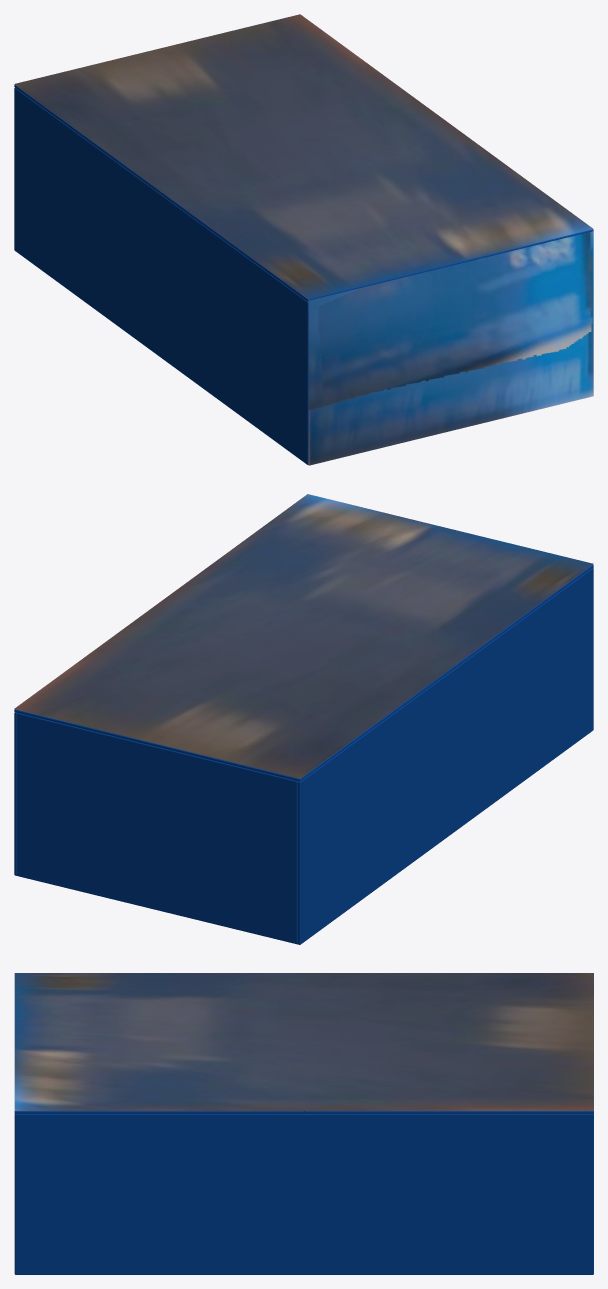
3 renders of one model, top to bottom at view 1: azimuth 30°, elevation 25°; view 2: azimuth 150°, elevation 25°; view 3: azimuth 270°, elevation 25°, orthographic.
Visible parts, largest first — view 1: blue_flat_carton__body, blue_flat_carton__flap_front; view 2: blue_flat_carton__body, blue_flat_carton__flap_front, blue_flat_carton__flap_back; view 3: blue_flat_carton__body, blue_flat_carton__flap_front, blue_flat_carton__flap_right, blue_flat_carton__flap_back.
Boxes of the visible parts, bbox=[...] form: blue_flat_carton__body: bbox=[14, 88, 593, 465]; blue_flat_carton__flap_front: bbox=[14, 14, 593, 301]; blue_flat_carton__body: bbox=[14, 567, 593, 944]; blue_flat_carton__flap_front: bbox=[14, 494, 593, 778]; blue_flat_carton__flap_back: bbox=[14, 672, 446, 781]; blue_flat_carton__body: bbox=[14, 1113, 593, 1274]; blue_flat_carton__flap_front: bbox=[14, 973, 593, 1113]; blue_flat_carton__flap_right: bbox=[21, 1115, 586, 1116]; blue_flat_carton__flap_back: bbox=[304, 1111, 593, 1113].
Bounding box in the file's own units: 0.0816 × 0.0454 × 0.1452.
Materials: 3 (2 with a texture image).
